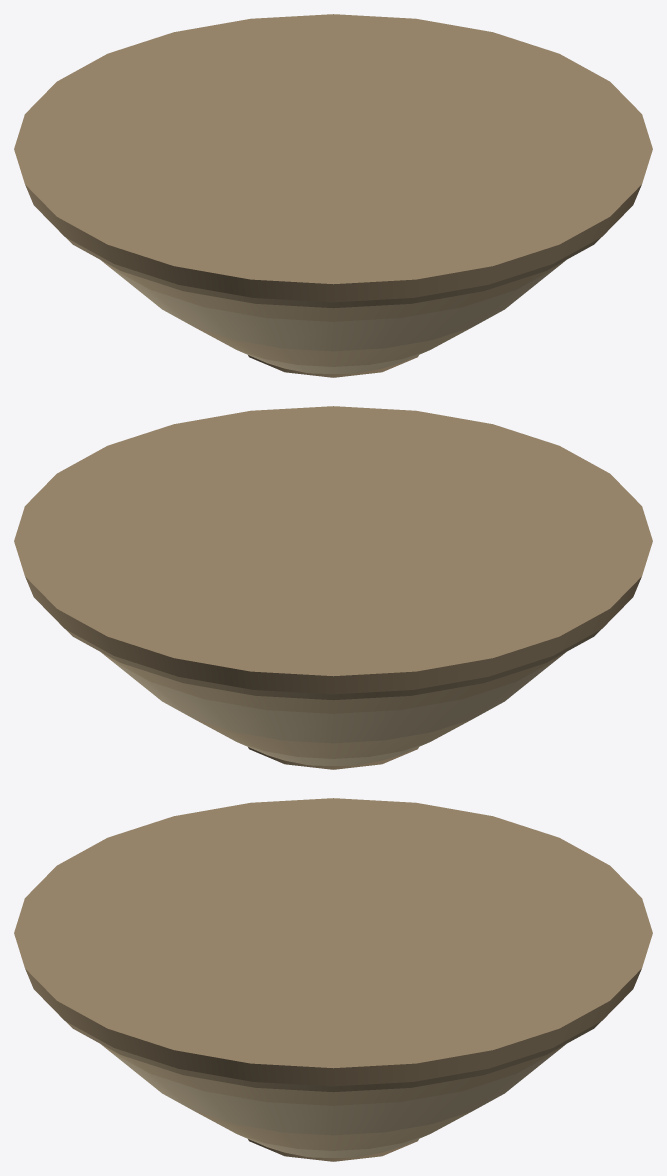
File: kancheu.glb
The picture shows the model from 3 angles, top to bottom: view 1: azimuth 30°, elevation 25°; view 2: azimuth 150°, elevation 25°; view 3: azimuth 270°, elevation 25°; orthographic projection.
Size of the model in its own units: 2.1 by 0.68 by 2.1.
